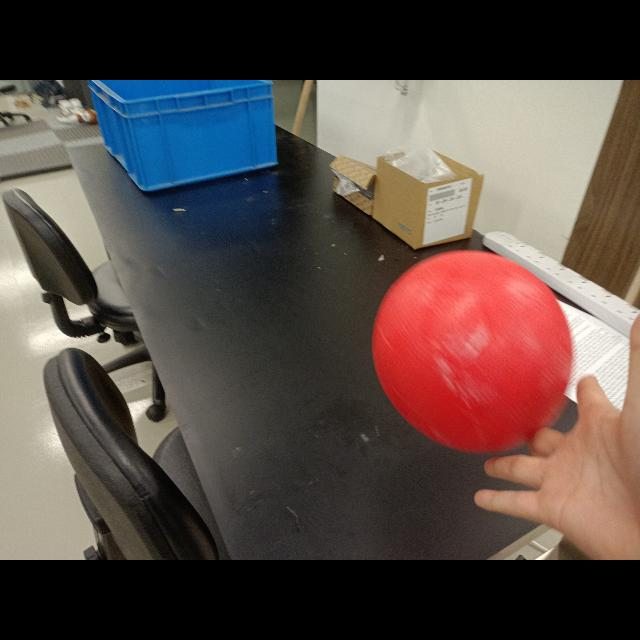R: (374, 248, 580, 454)
